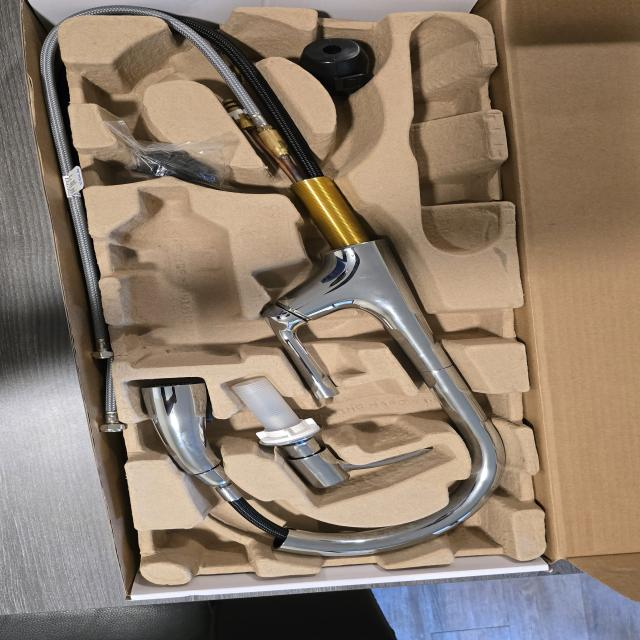1: (139, 12, 509, 557)
2: (231, 377, 432, 490)
3m: (109, 186, 242, 370)
4m: (407, 17, 499, 255)
5: (301, 38, 372, 96)
6m: (84, 41, 181, 116)
7: (100, 118, 227, 189)
